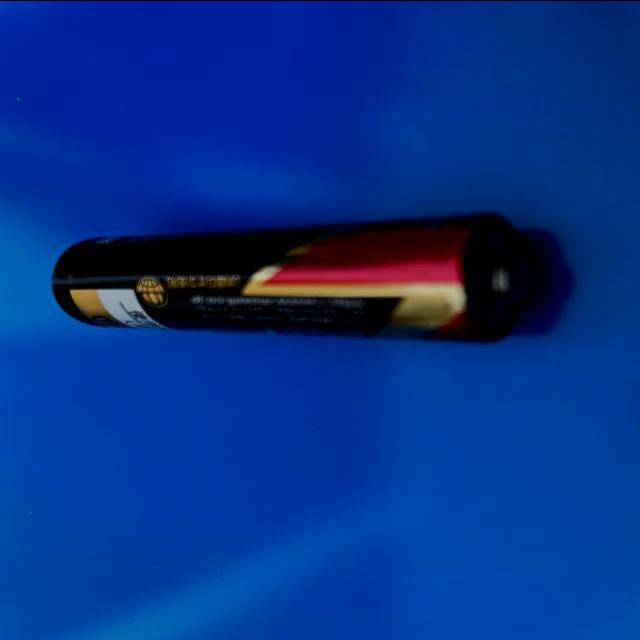AA: (50, 210, 542, 347)
